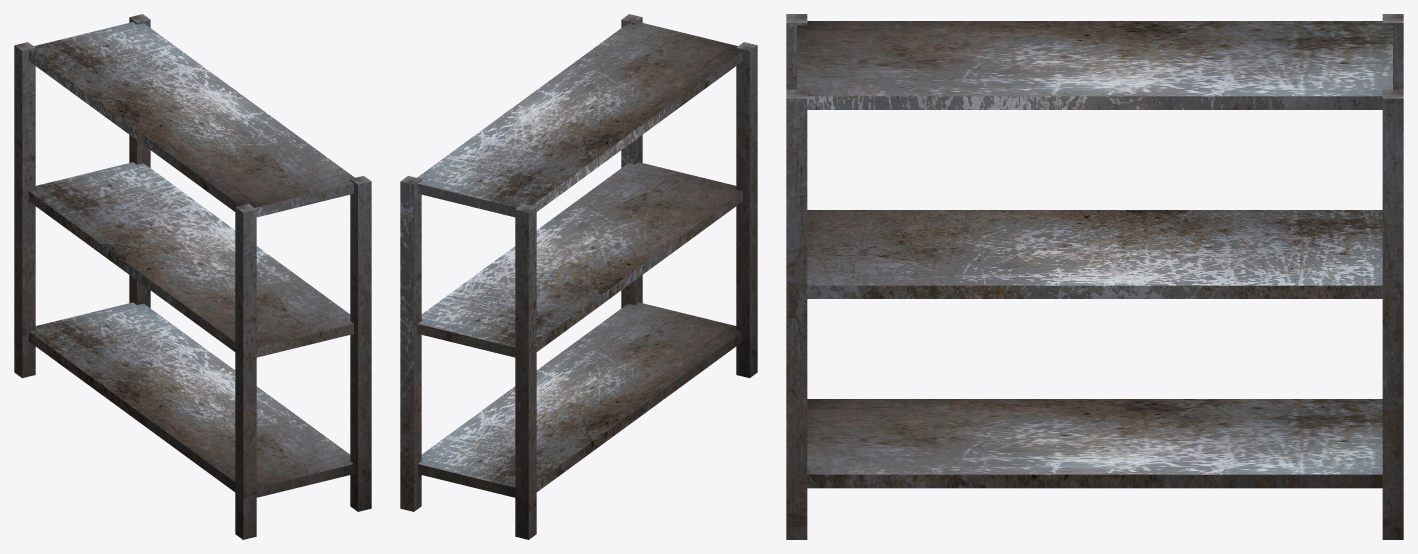
Rendered from shelf.fbx.
3 renders of one model, left to right at view 1: azimuth 30°, elevation 25°; view 2: azimuth 150°, elevation 25°; view 3: azimuth 270°, elevation 25°, orthographic. The views are drawn at different scales.
Parts seen in each view (by area): view 1: Cube; view 2: Cube; view 3: Cube.
Part boxes in pixels (x1,y1,x2,y2): Cube: [14, 14, 371, 539]; Cube: [400, 14, 757, 539]; Cube: [786, 14, 1403, 539].
Bounding box in the file's own units: 67.07 × 163 × 207.
